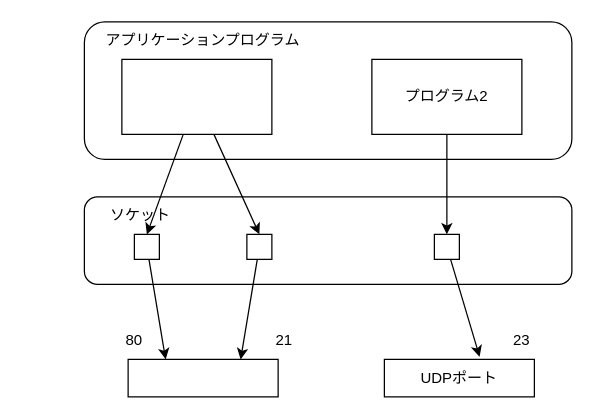
The diagram is 594 pixels wide and 419 high, and some of its shapes have lost their labels. The shapes that lost their labels are listed below. From the top down, each one's centre as x and y in pixels, then its label:
the point at 196,96: プログラム1
the point at 202,377: TCPポート
